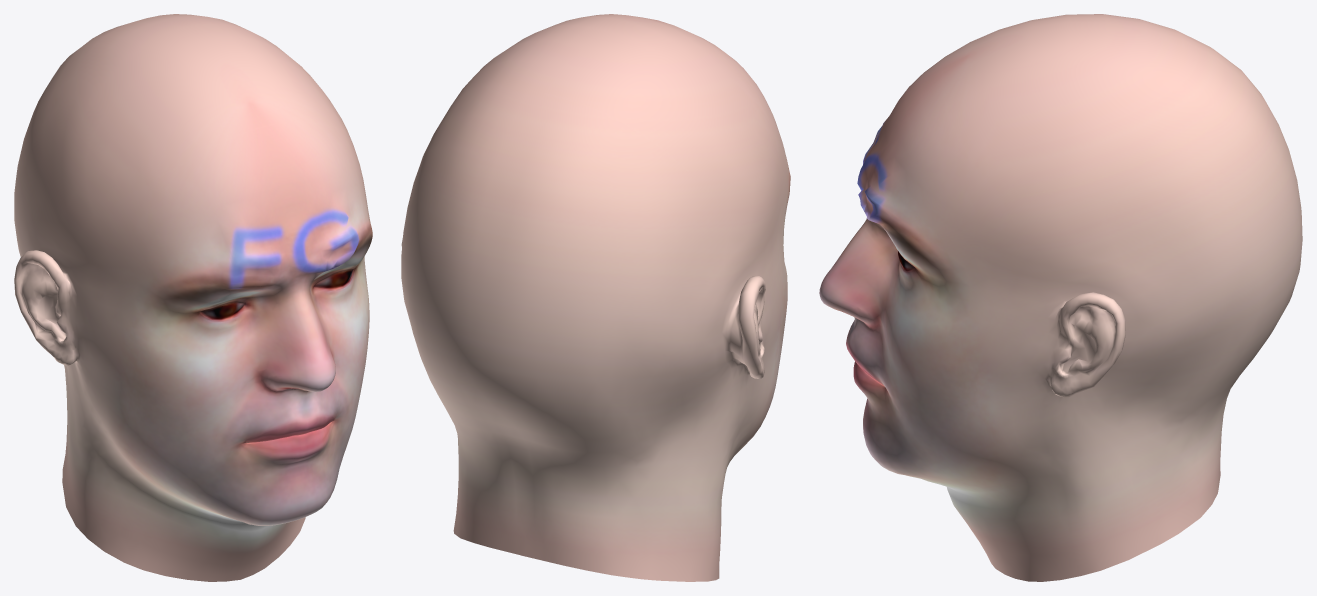
The model's file is random_anyrace_anysex_12.obj.
The picture shows the model from 3 angles, left to right: view 1: azimuth 30°, elevation 25°; view 2: azimuth 150°, elevation 25°; view 3: azimuth 270°, elevation 25°; orthographic projection. The views are drawn at different scales.
Parts seen in each view (by area): view 1: HeadHires; view 2: HeadHires; view 3: HeadHires.
Part boxes in pixels (x1,y1,x2,y2): HeadHires: (14,14,372,581); HeadHires: (401,14,790,581); HeadHires: (819,14,1302,581).
Size of the model in its own units: 189 by 283 by 234.
3 materials, 3 textured.
